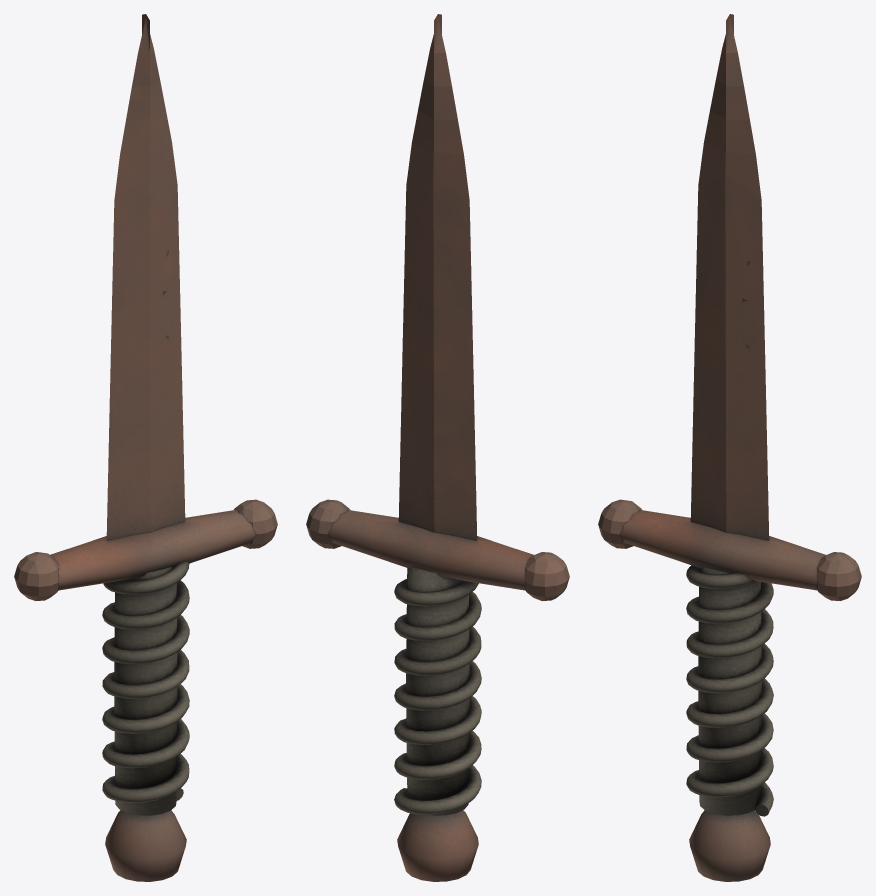
The model's file is arma_adaga_enferrujada.glb.
The picture shows the model from 3 angles, left to right: view 1: azimuth 30°, elevation 25°; view 2: azimuth 150°, elevation 25°; view 3: azimuth 330°, elevation 25°; orthographic projection.
Visible parts, largest first — view 1: arma_adaga_enferrujada; view 2: arma_adaga_enferrujada; view 3: arma_adaga_enferrujada.
Part boxes in pixels (left/top/right/bottom): arma_adaga_enferrujada: left=14, top=14, right=277, bottom=881; arma_adaga_enferrujada: left=306, top=14, right=569, bottom=881; arma_adaga_enferrujada: left=598, top=14, right=861, bottom=881.
Size of the model in its own units: 0.144 by 0.461 by 0.0425.
Materials: 1 (1 with a texture image).
